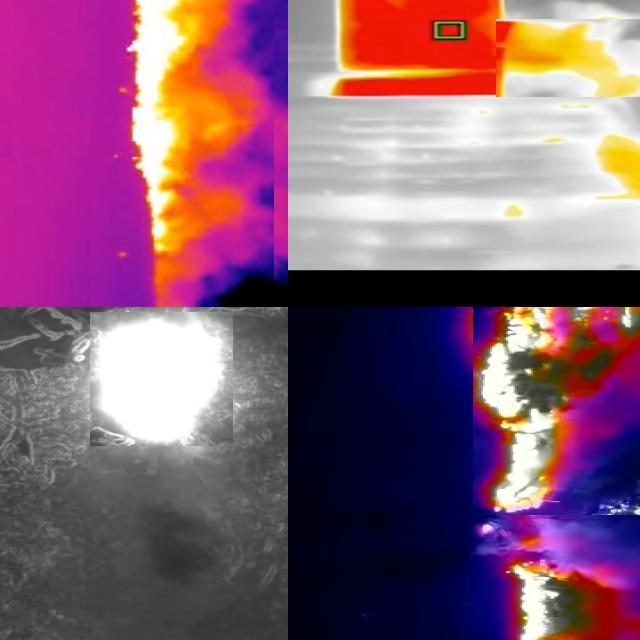fire: (91, 1, 275, 307), (474, 308, 640, 515), (477, 521, 640, 640), (91, 312, 234, 446), (497, 19, 640, 97)
